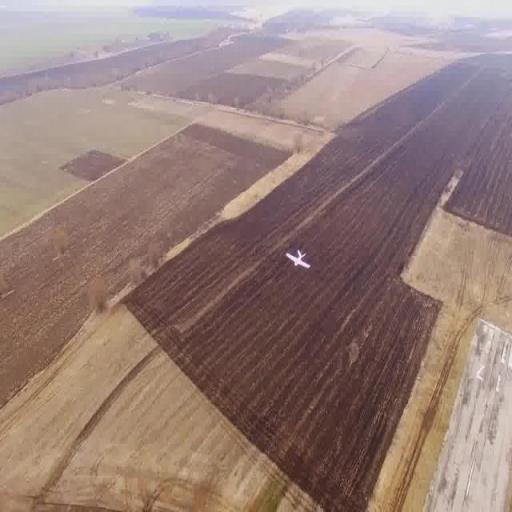uav: (280, 236, 323, 294)
